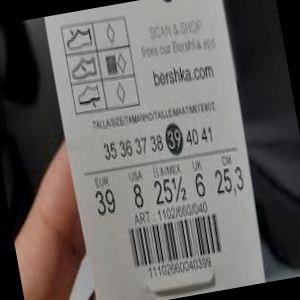bershka: (121, 30, 268, 89)
